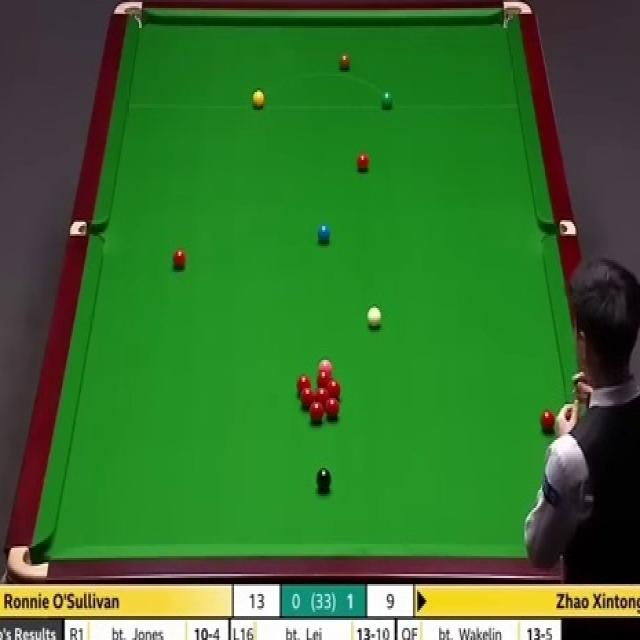pocket: (10, 546, 48, 585), (500, 0, 534, 32), (113, 0, 142, 28), (541, 218, 577, 236), (69, 220, 103, 237)
